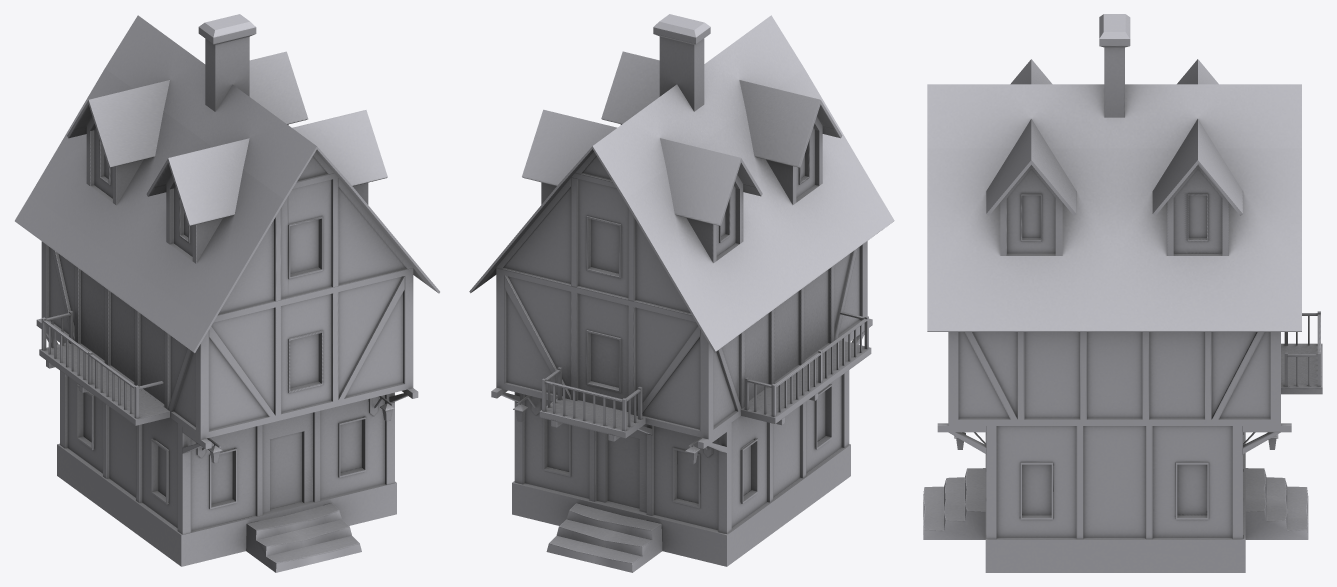
Rendered from Vilage_House_2.FBX.
3 views of the same model, side by side, from view 1: azimuth 30°, elevation 25°; view 2: azimuth 150°, elevation 25°; view 3: azimuth 270°, elevation 25° (orthographic). The views are drawn at different scales.
Parts seen in each view (by area): view 1: Vilage_House_2; view 2: Vilage_House_2; view 3: Vilage_House_2.
Boxes of the visible parts, x1=… form: Vilage_House_2: x1=15, y1=14, x2=439, y2=572; Vilage_House_2: x1=469, y1=14, x2=894, y2=572; Vilage_House_2: x1=923, y1=14, x2=1322, y2=572.
Bounding box in the file's own units: 368 × 630 × 461.
